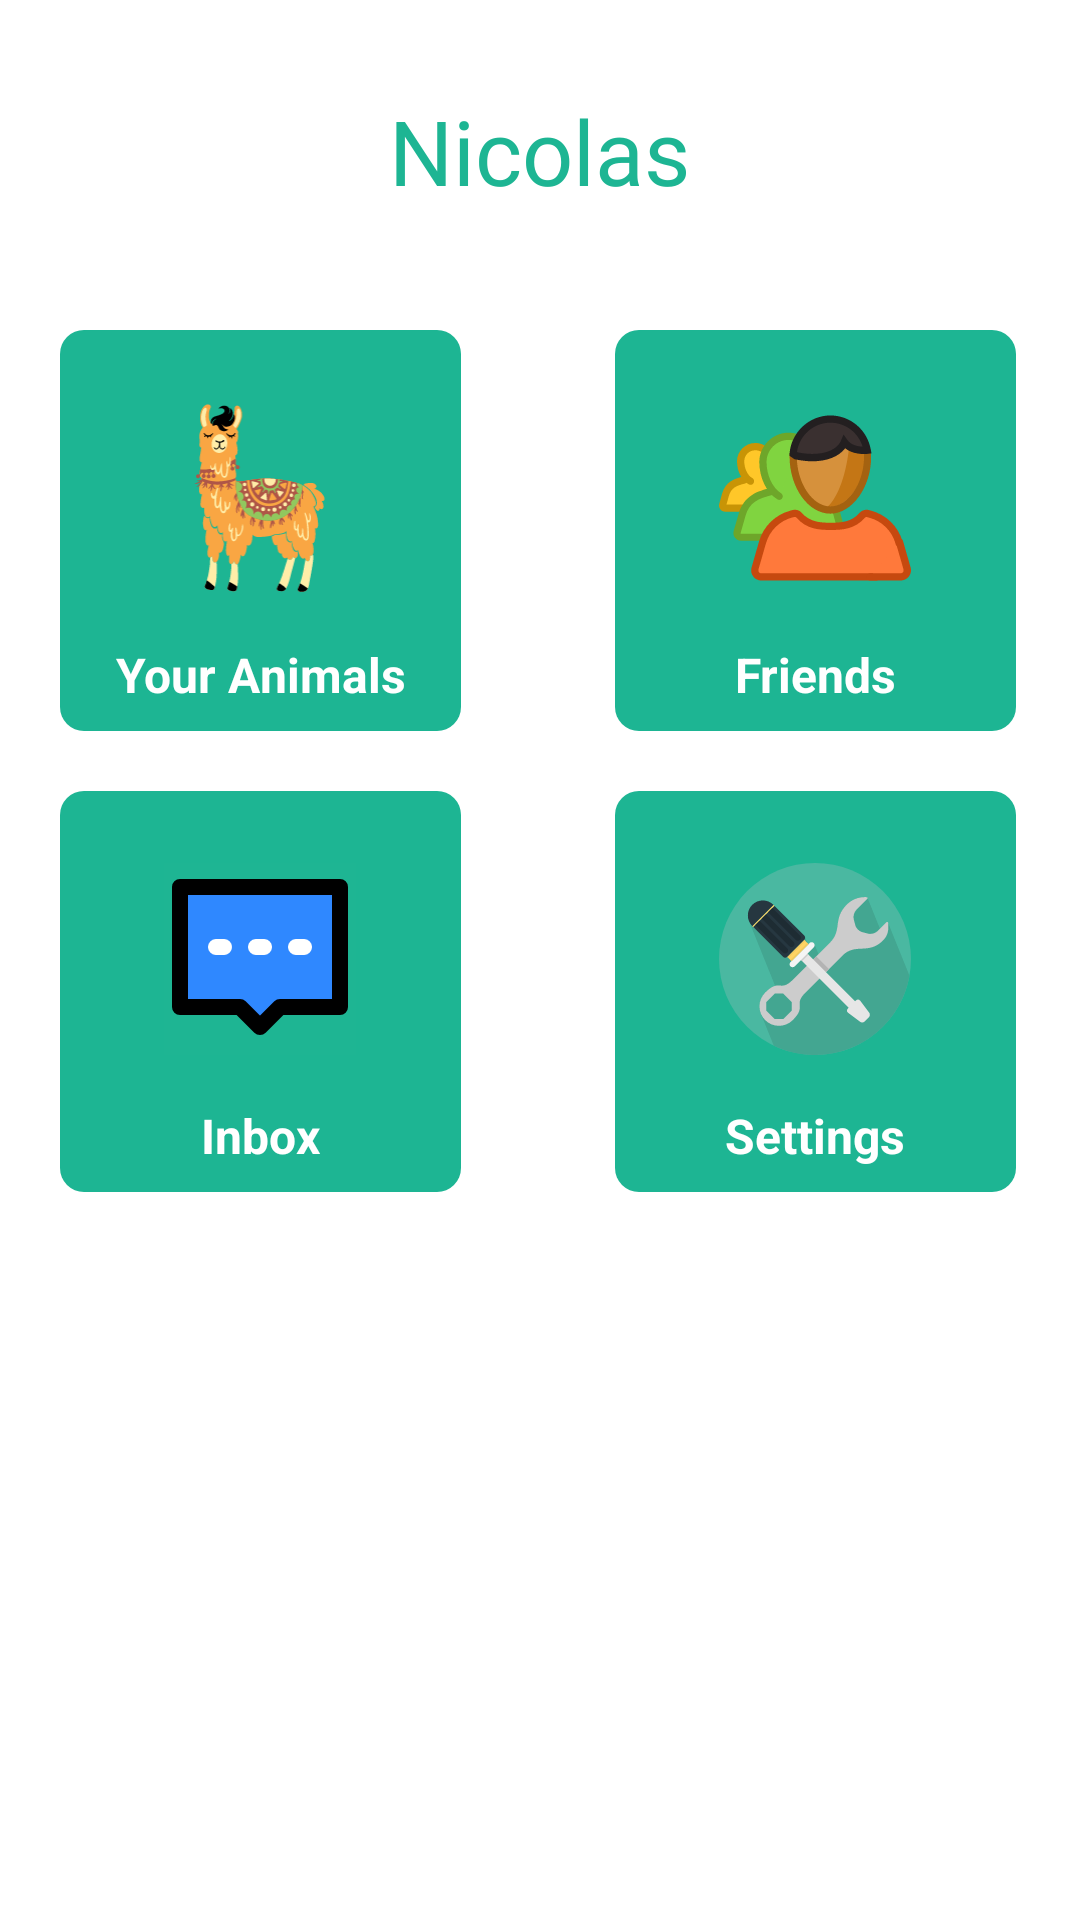

Named icons in this screenshot (1080px x 1920px) and their centers, point (x, y):
group people: point (815, 498)
llama: point (260, 498)
message one: point (260, 957)
